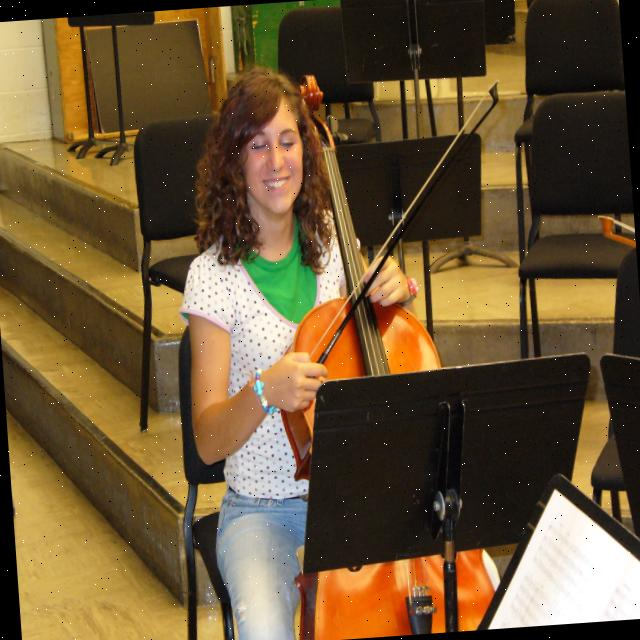cello: (256, 61, 501, 640)
